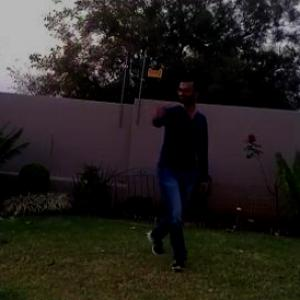takeoff-hand: (149, 98, 173, 130)
